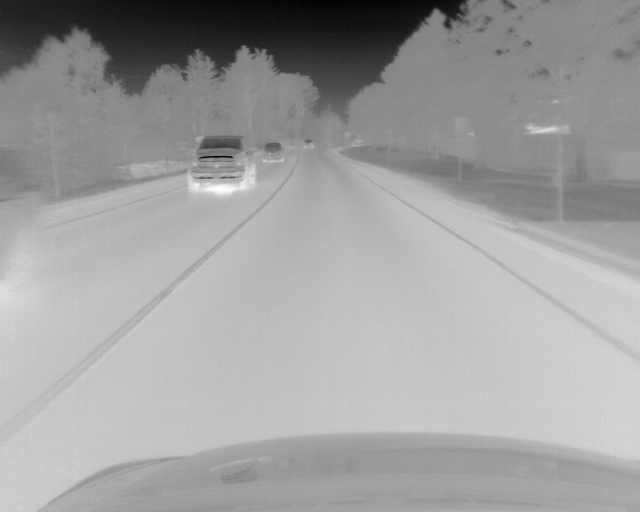car: (188, 134, 256, 191), (261, 142, 285, 163), (302, 139, 314, 150)
